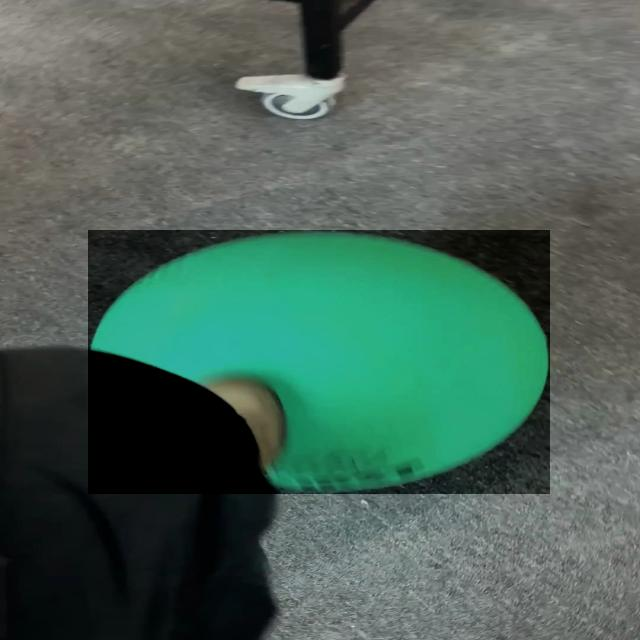Algae: (88, 230, 550, 494)
